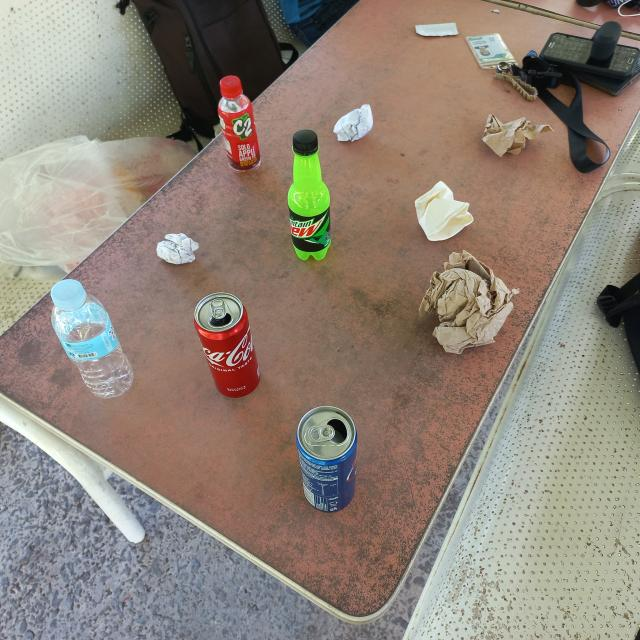Anorganik: (43, 271, 140, 406), (187, 286, 265, 405), (292, 400, 363, 519), (282, 125, 338, 265), (214, 71, 266, 174)
Organik: (409, 245, 526, 360), (406, 175, 478, 246), (479, 109, 560, 162), (330, 97, 378, 148), (152, 228, 203, 268)
